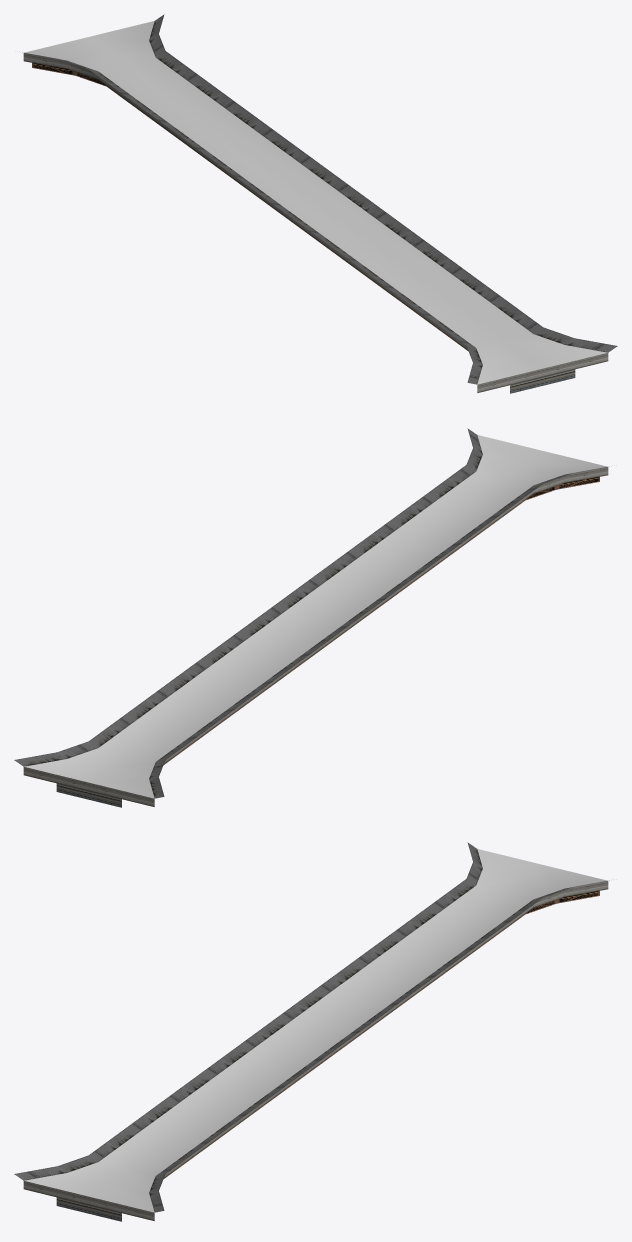
Rendered from Chicane5.fbx.
3 renders of one model, top to bottom at view 1: azimuth 30°, elevation 25°; view 2: azimuth 150°, elevation 25°; view 3: azimuth 330°, elevation 25°, orthographic.
Parts seen in each view (by area): view 1: Empty_Mesh; view 2: Empty_Mesh; view 3: Empty_Mesh.
Part boxes in pixels (<box>): Empty_Mesh: <box>22,14,617,393</box>; Empty_Mesh: <box>14,428,609,807</box>; Empty_Mesh: <box>14,842,609,1221</box>.
Bounding box in the file's own units: 18.4 × 2.5 × 96.
